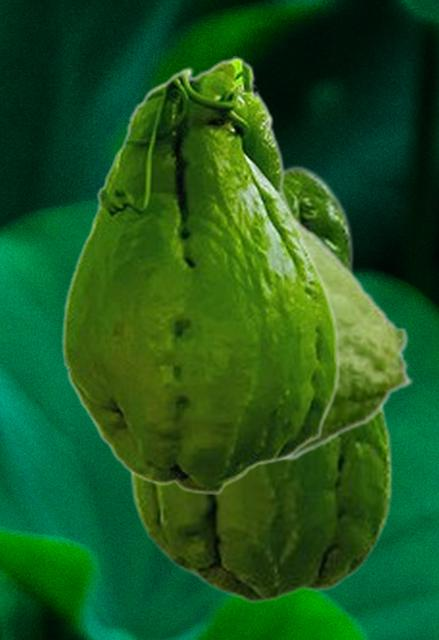sayote: (61, 56, 340, 495), (129, 164, 392, 603), (265, 212, 414, 466)
